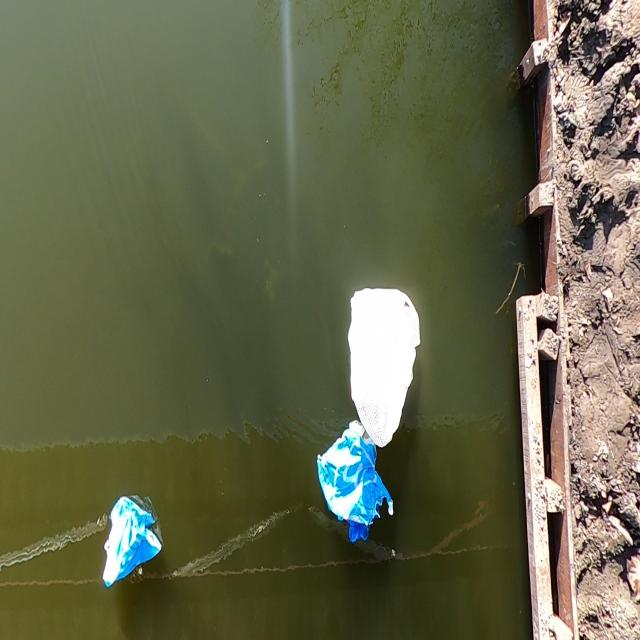Sac plastique: (334, 284, 432, 469), (300, 416, 401, 558), (97, 492, 167, 590)
